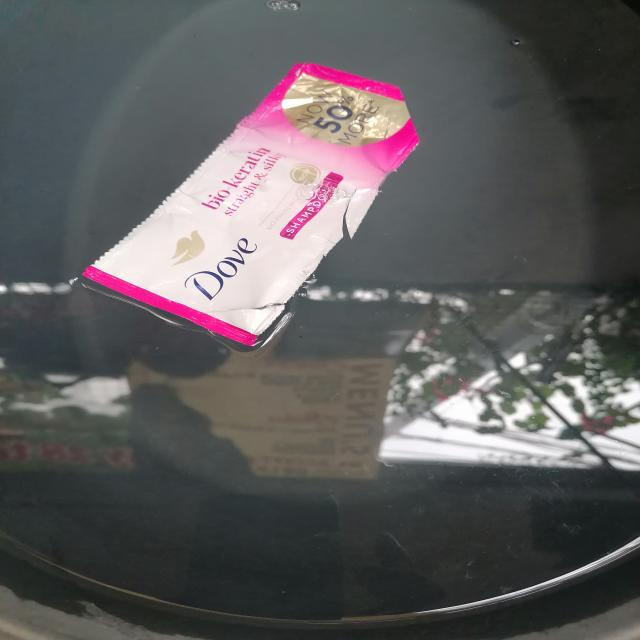Plastic Wrapper: (83, 63, 419, 347)
